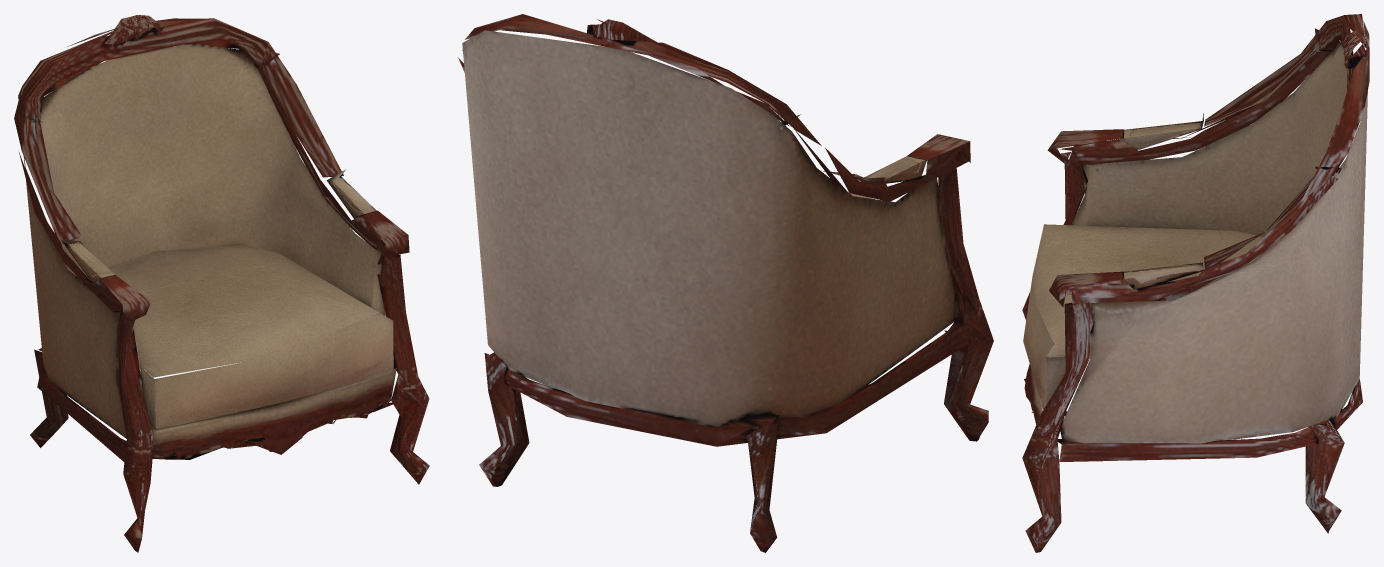
The picture shows the model from 3 angles, left to right: view 1: azimuth 30°, elevation 25°; view 2: azimuth 150°, elevation 25°; view 3: azimuth 270°, elevation 25°; orthographic projection. The views are drawn at different scales.
Parts seen in each view (by area): view 1: Armchair_0; view 2: Armchair_0; view 3: Armchair_0.
Boxes of the visible parts, box(x1,y1,x2,y2) form: Armchair_0: box(14, 15, 429, 552); Armchair_0: box(458, 14, 993, 552); Armchair_0: box(1022, 14, 1369, 552).
Size of the model in its own units: 0.8553 by 1.06 by 0.7564.
1 material, 1 textured.
